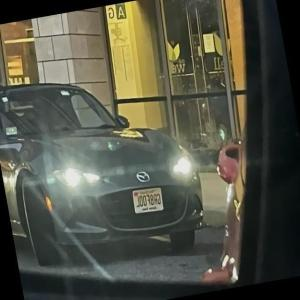Plate: (132, 186, 164, 214)
